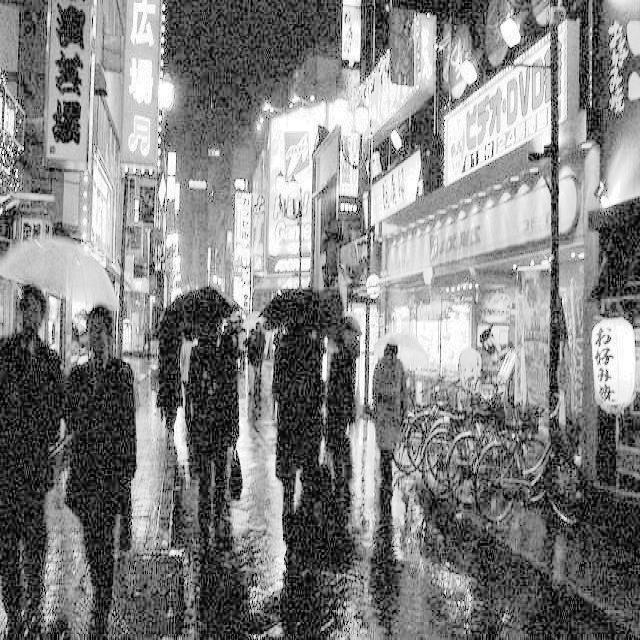Bicycle: (469, 387, 596, 539), (450, 410, 561, 504), (410, 401, 516, 447)
Person: (64, 290, 148, 630), (1, 287, 70, 617), (191, 306, 254, 552), (263, 313, 334, 517), (371, 339, 413, 533), (326, 324, 363, 494)
